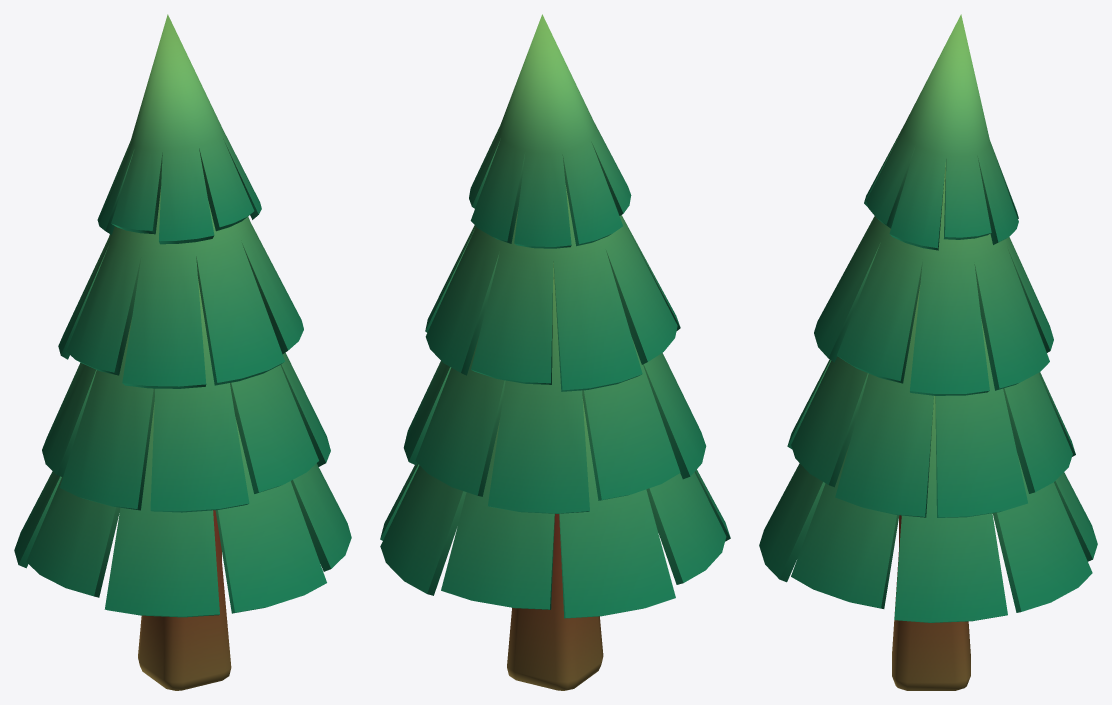
The model's file is Spruce01.fbx.
3 renders of one model, left to right at view 1: azimuth 30°, elevation 25°; view 2: azimuth 150°, elevation 25°; view 3: azimuth 270°, elevation 25°, orthographic. The views are drawn at different scales.
Visible parts, largest first — view 1: Spruce_Top1, Trunk03; view 2: Spruce_Top1, Trunk03; view 3: Spruce_Top1, Trunk03.
Boxes of the visible parts, left/top/right/bottom form: Spruce_Top1: left=14, top=14, right=351, bottom=617; Trunk03: left=138, top=510, right=231, bottom=690; Spruce_Top1: left=380, top=14, right=730, bottom=618; Trunk03: left=507, top=514, right=603, bottom=690; Spruce_Top1: left=759, top=14, right=1097, bottom=622; Trunk03: left=892, top=515, right=970, bottom=690.
Size of the model in its own units: 2.19 by 4.62 by 2.13.
